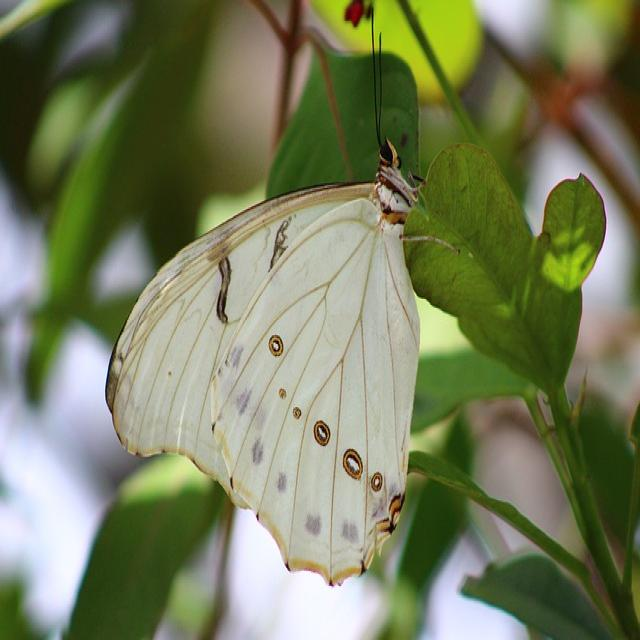butterfly: (106, 146, 422, 584)
